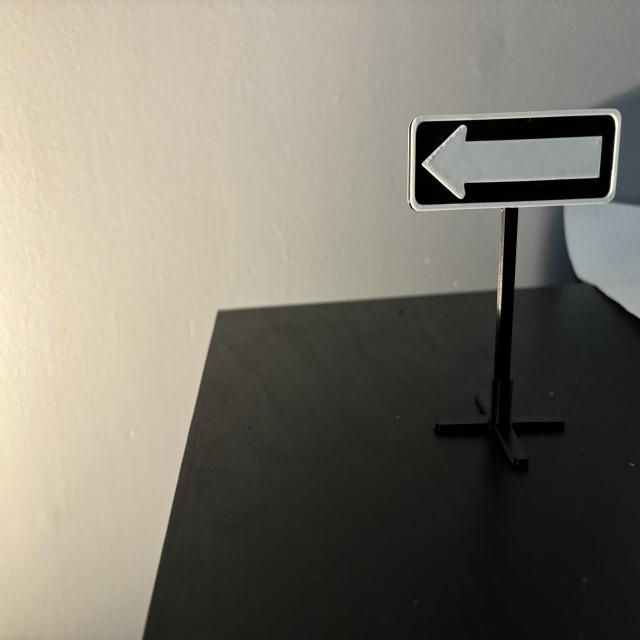sign_oneway_left: (411, 111, 622, 212)
